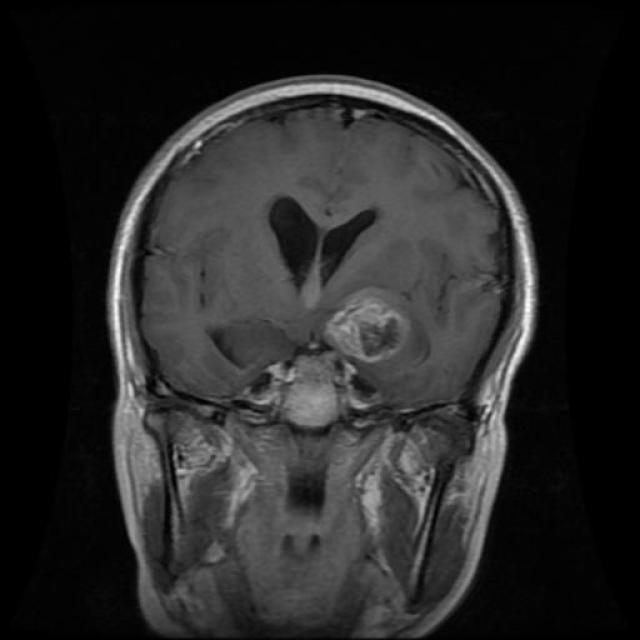glioma: (328, 296, 413, 364)
